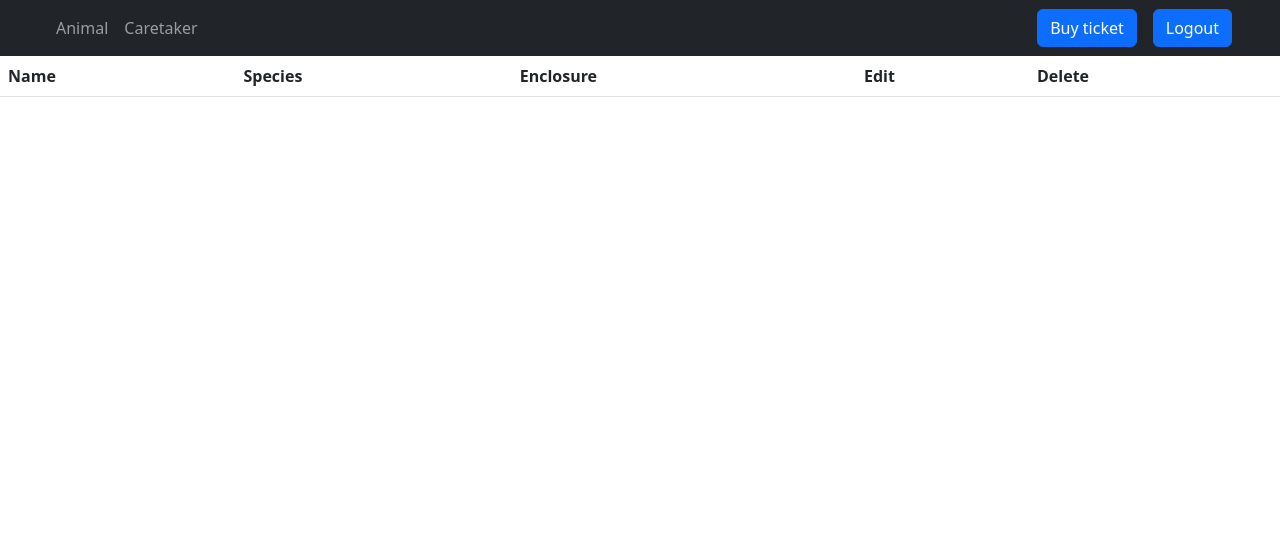
Scenario: Edit animal › logout
This screenshot has width=1280, height=539.
Click the button with id "logout-btn" at x=1193, y=28, box [1153,9,1232,47]
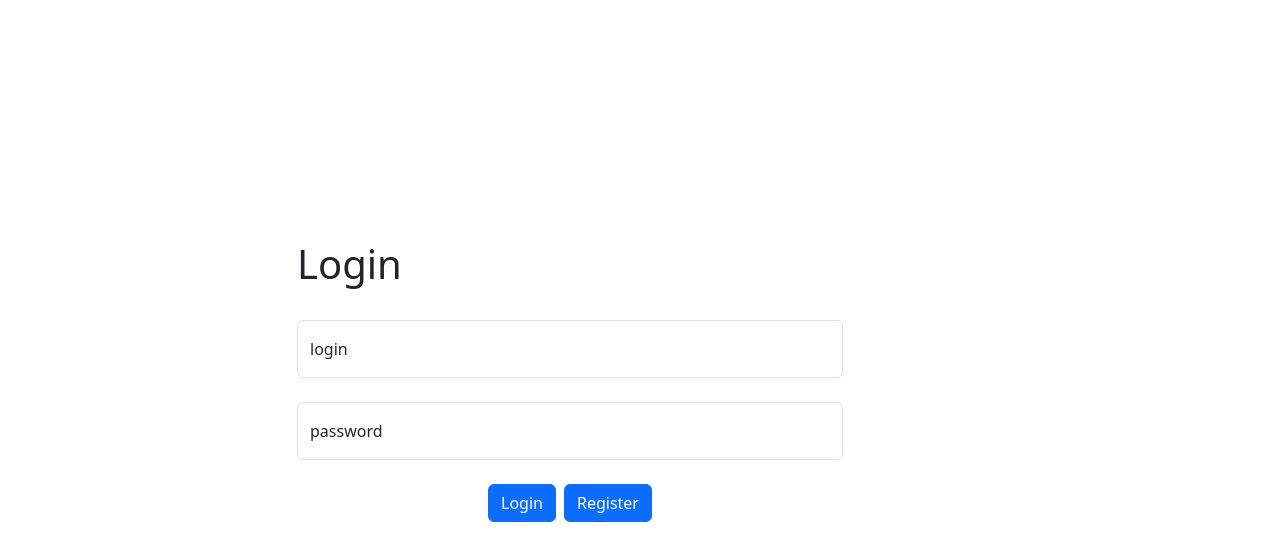
Check: the button with id "login-btn" is shown, box [488,484,556,522]
